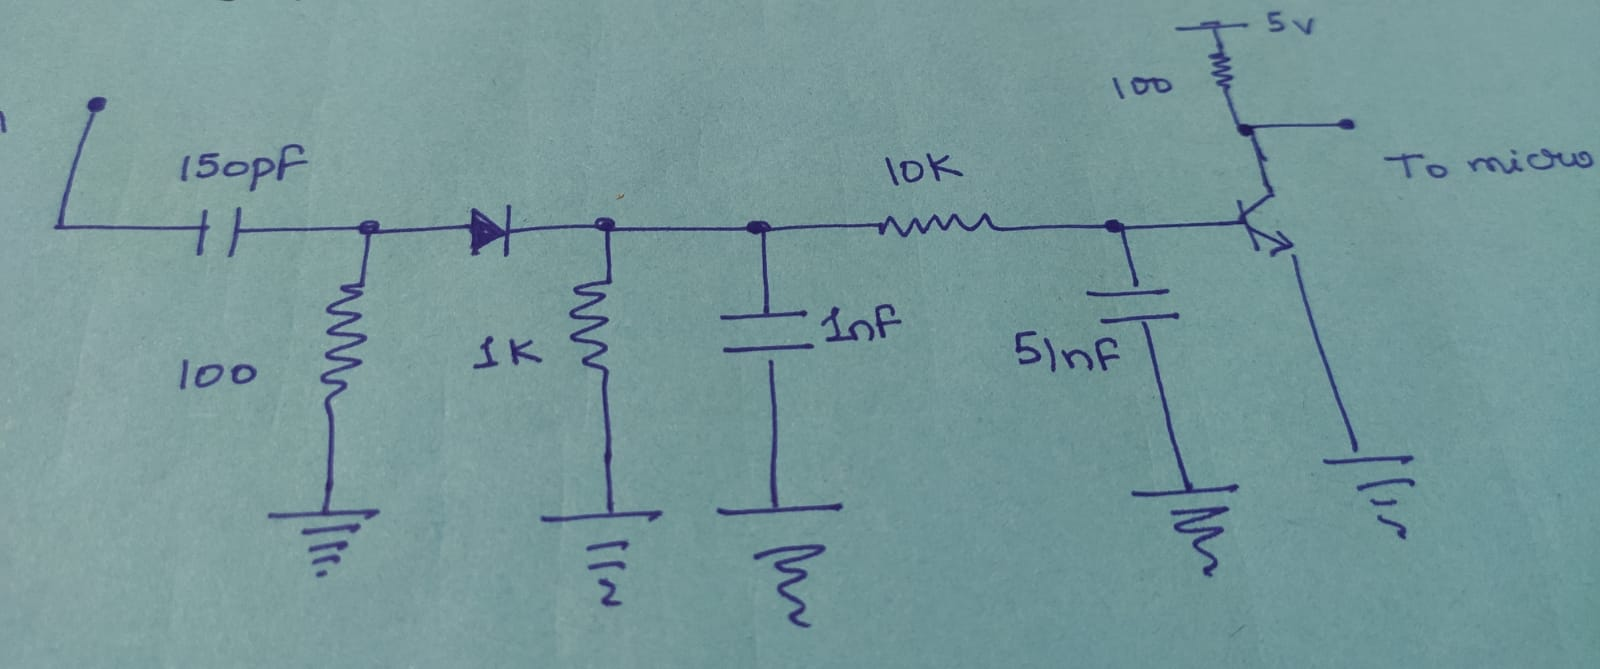capacitor.unpolarized: (720, 304, 815, 362), (1086, 282, 1180, 328), (192, 203, 248, 259)
diode: (458, 206, 519, 257)
gnd: (714, 488, 848, 625), (536, 498, 671, 612), (1126, 474, 1249, 581), (1317, 436, 1422, 543), (262, 499, 388, 582)
junction: (347, 214, 387, 246), (737, 213, 781, 241), (1097, 213, 1135, 243), (1232, 115, 1267, 143), (587, 216, 624, 242), (47, 213, 77, 242)
resistor: (318, 271, 366, 404), (568, 274, 614, 382), (879, 210, 998, 239), (1203, 48, 1237, 90)
terminal: (81, 92, 111, 123), (1329, 111, 1359, 132)
text: (1382, 144, 1599, 182), (181, 136, 308, 189), (1013, 325, 1117, 376), (819, 298, 898, 346), (470, 330, 542, 375), (176, 351, 257, 389), (878, 150, 959, 187), (1261, 4, 1318, 43), (1111, 70, 1177, 102)
transistor: (1231, 183, 1310, 264)
voltage.dc: (1167, 15, 1256, 34)
